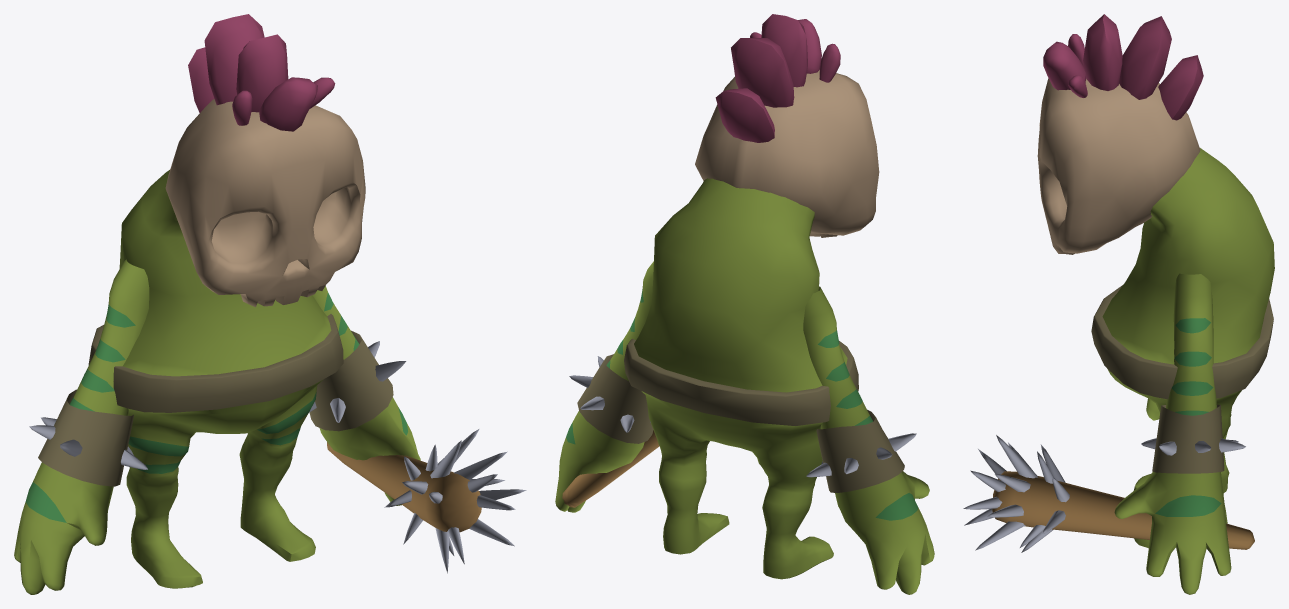
The model's file is OrcSkull.glb.
3 renders of one model, left to right at view 1: azimuth 30°, elevation 25°; view 2: azimuth 150°, elevation 25°; view 3: azimuth 270°, elevation 25°, orthographic. The views are drawn at different scales.
Visible parts, largest first — view 1: SK_OrcSkull; view 2: SK_OrcSkull; view 3: SK_OrcSkull.
Part boxes in pixels (x1=…): SK_OrcSkull: x1=14, y1=14, x2=526, y2=594; SK_OrcSkull: x1=555, y1=14, x2=934, y2=594; SK_OrcSkull: x1=963, y1=14, x2=1274, y2=594.
Size of the model in its own units: 2.5 by 3.27 by 1.86.
1 material, 1 textured.
